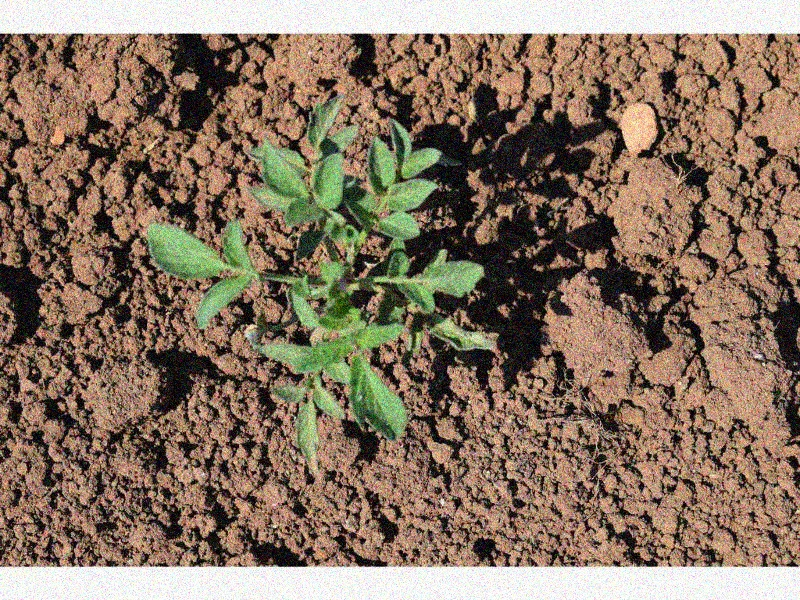tomato: (146, 91, 495, 472)
